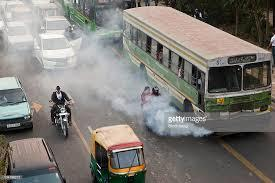smoke: (85, 60, 138, 95), (144, 102, 186, 133)
